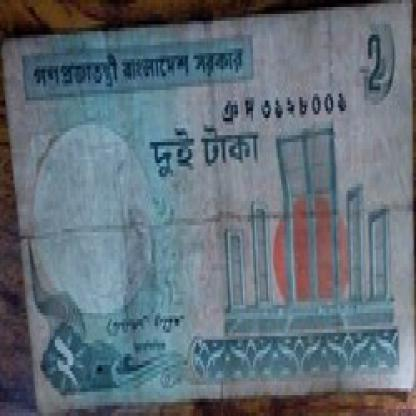two taka: (43, 322, 85, 406), (359, 24, 388, 118)
